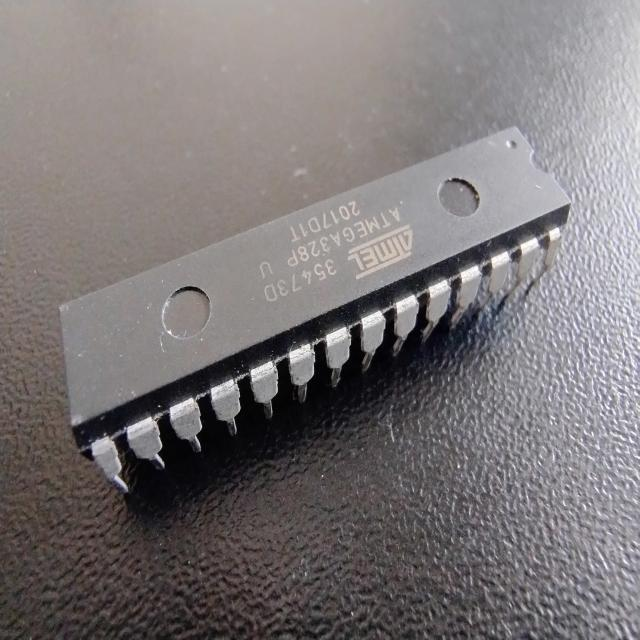atmega: (56, 122, 574, 496)
